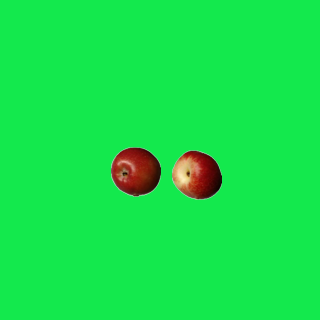Apple Braeburn: (110, 146, 160, 196)
Nectarine: (171, 149, 221, 199)
